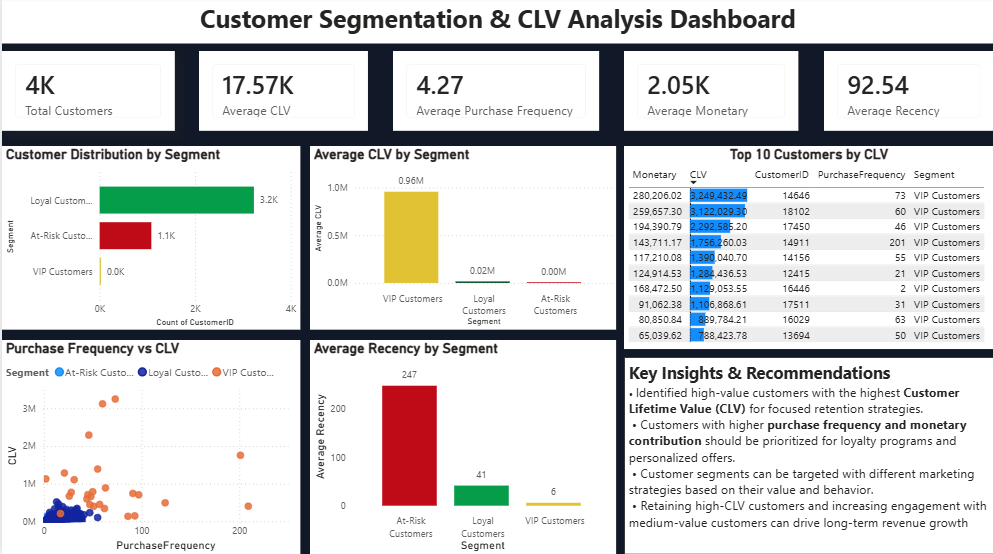

This screenshot's page, from the dashboard's own definition file:
{"tool":"powerbi","page":{"name":"Page 1","canvas":[1280,720],"ordinal":0},"visuals":[{"type":"textbox","box":[0,0,1279.8,59.5],"z":0},{"type":"cardVisual","fields":{"Data":["Customer_CLV.Total Customers"]},"box":[0,69.4,222.5,103.5],"z":1000},{"type":"cardVisual","fields":{"Data":["Customer_CLV.Average CLV"]},"box":[253.7,69.4,218.3,103.5],"z":2000},{"type":"cardVisual","fields":{"Data":["Customer_CLV.Average Purchase Frequency"]},"box":[504.6,69.4,266.5,103.5],"z":3000},{"type":"cardVisual","fields":{"Data":["Customer_CLV.Average Monetary"]},"box":[802.2,69.4,225.4,103.5],"z":4000},{"type":"cardVisual","fields":{"Data":["Customer_CLV.Average Recency"]},"box":[1060.2,69.4,219.7,103.5],"z":5000},{"type":"clusteredBarChart","title":"Customer Distribution by Segment","fields":{"Category":["Customer_CLV.Segment"],"Y":["CountNonNull(Customer_CLV.CustomerID)"]},"box":[0,192.3,384.5,237.4],"z":6000},{"type":"clusteredColumnChart","title":"Average CLV by Segment","fields":{"Category":["Customer_CLV.Segment"],"Y":["Customer_CLV.Average CLV"]},"box":[396.9,192.8,395.4,236.7],"z":7000},{"type":"scatterChart","title":"Purchase Frequency vs CLV","fields":{"Y":["Customer_CLV.CLV"],"X":["Customer_CLV.PurchaseFrequency"],"Series":["Customer_CLV.Segment"]},"box":[0,442.6,384.5,277.4],"z":8000},{"type":"clusteredColumnChart","title":"Average Recency by Segment","fields":{"Category":["Customer_CLV.Segment"],"Y":["Customer_CLV.Average Recency"]},"box":[396.9,442.2,395.4,277.8],"z":9000},{"type":"tableEx","title":"Top 10 Customers by CLV","fields":{"Values":["Customer_CLV.Monetary","Customer_CLV.CLV","Customer_CLV.CustomerID","Customer_CLV.PurchaseFrequency","Customer_CLV.Segment"]},"box":[802.2,192.8,477.6,262.2],"z":10000},{"type":"textbox","box":[802.2,464.9,477.6,255.1],"z":11000}]}

Visuals, with their boxes in screenshot pixels (x1, y1, x2, y2), scaled from the page's 1280x720 canvas onto the 993x554 screenshot:
textbox: 0,0,992,46
cardVisual - Customer_CLV.Total Customers: 0,53,173,133
cardVisual - Customer_CLV.Average CLV: 197,53,366,133
cardVisual - Customer_CLV.Average Purchase Frequency: 391,53,598,133
cardVisual - Customer_CLV.Average Monetary: 622,53,797,133
cardVisual - Customer_CLV.Average Recency: 822,53,992,133
"Customer Distribution by Segment" clusteredBarChart: 0,148,298,331
"Average CLV by Segment" clusteredColumnChart: 308,148,615,330
"Purchase Frequency vs CLV" scatterChart: 0,341,298,553
"Average Recency by Segment" clusteredColumnChart: 308,340,615,553
"Top 10 Customers by CLV" tableEx: 622,148,992,350
textbox: 622,358,992,553
